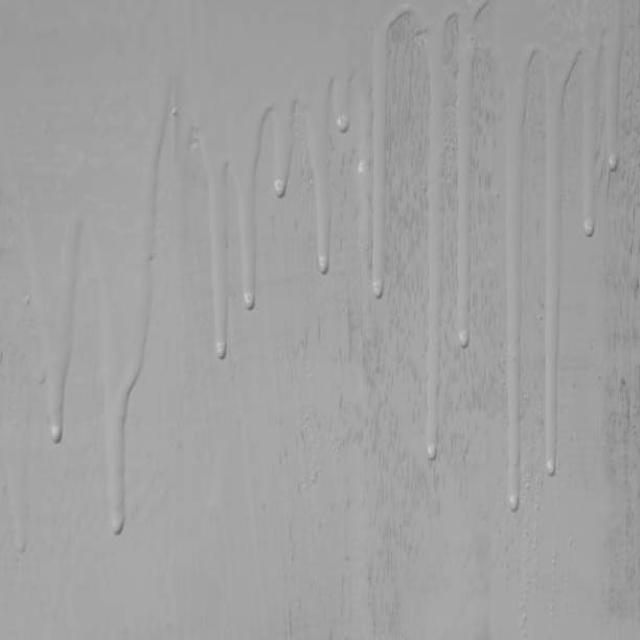paint drips: (0, 1, 639, 564)
